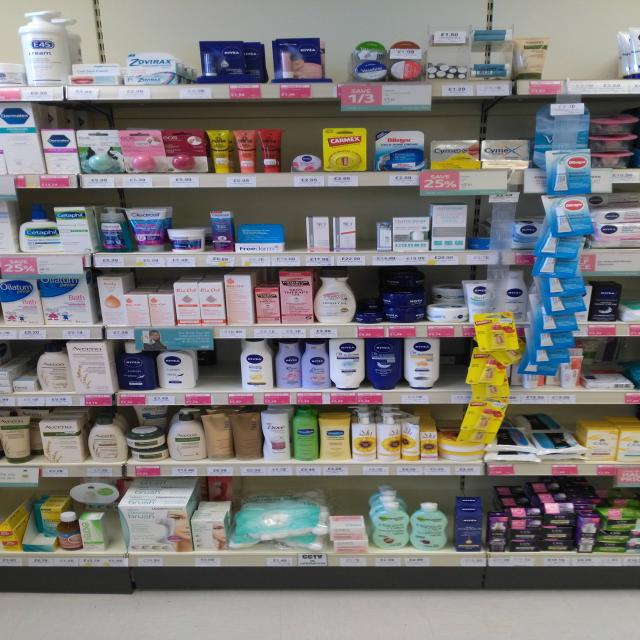empty: (541, 27, 631, 82), (196, 337, 240, 402), (437, 338, 471, 391), (348, 208, 380, 253), (282, 201, 305, 259)
